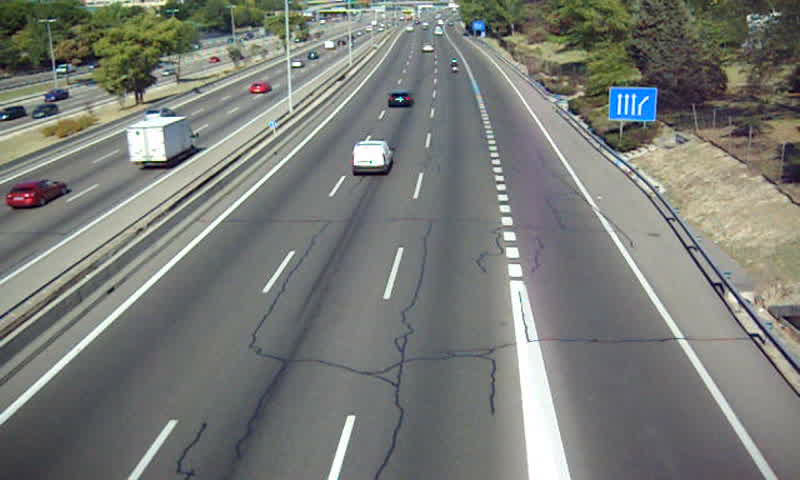car: (387, 91, 414, 109)
motorcycle: (450, 60, 460, 73)
van: (353, 141, 394, 174)
